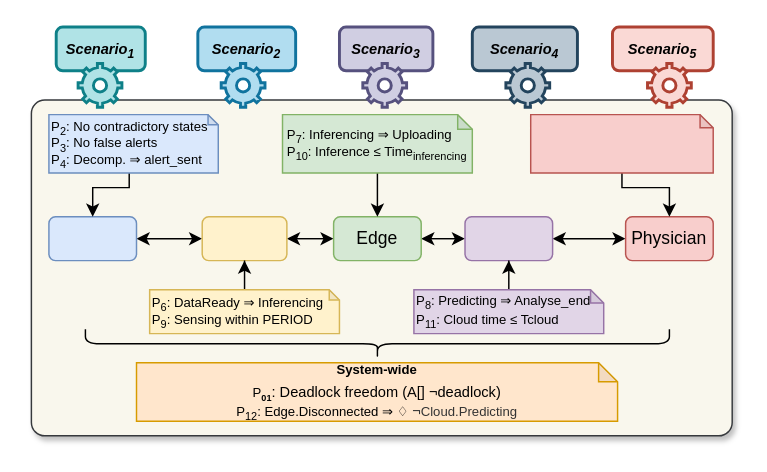
The diagram is 767 pixels wide and 472 high, and some of its shapes have lost their labels. The centre of each missing label's shape, as x and y in pixels:
"Cloud" goes at point (508, 238).
"P 5 : alert_sent ⇒ Responding" goes at point (621, 143).
"Patient" goes at point (92, 238).
"Sensors" goes at point (244, 238).
